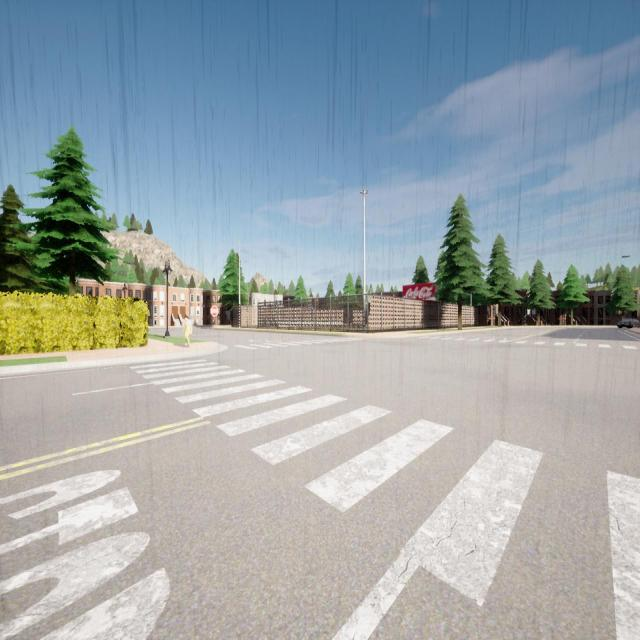Pedestrian: (184, 316, 192, 346)
Traffic_Signs: (211, 306, 218, 316)
Vehicle: (618, 319, 640, 328)
